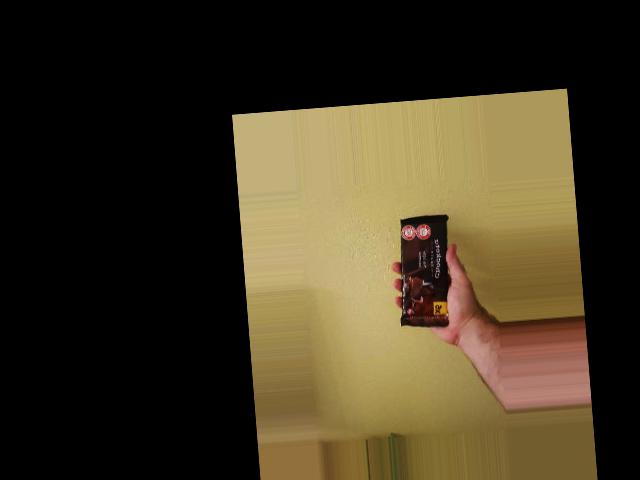chocolate: (392, 214, 458, 330)
